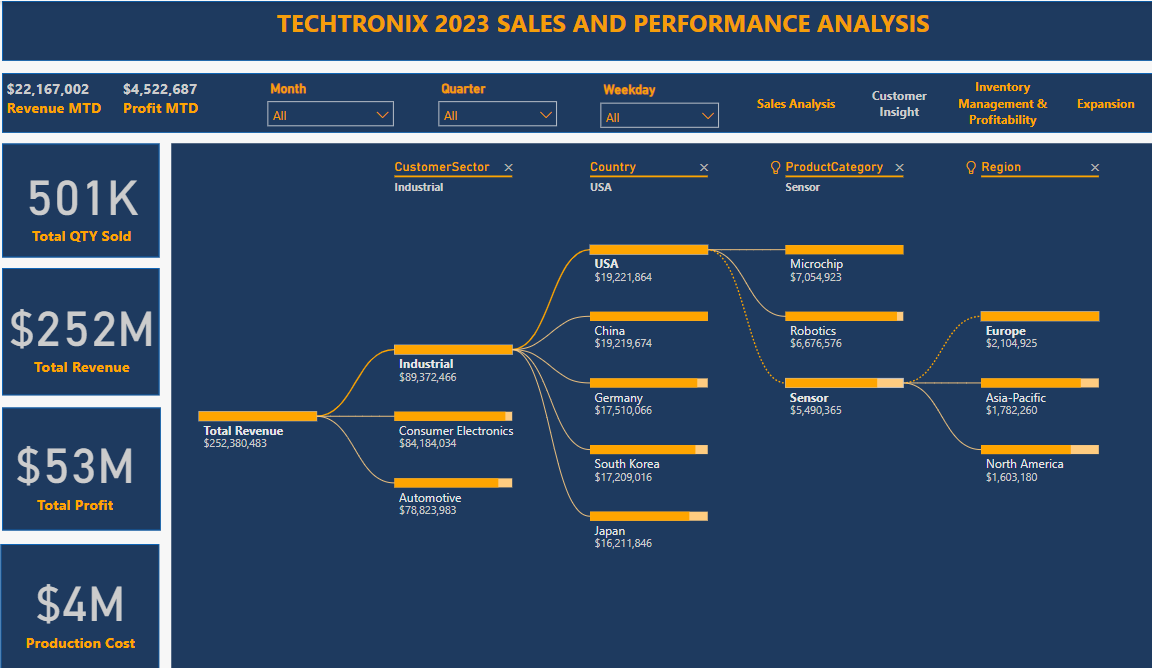

The dashboard page shown, as its layout file describes it:
{"tool":"powerbi","page":{"name":"Customer Insight","canvas":[1302,750],"ordinal":1},"visuals":[{"type":"shape","box":[13.3,157.4,174,125.9],"z":0},{"type":"shape","box":[13.3,294.9,174,140.8],"z":1000},{"type":"shape","box":[13.3,449,175.6,135.9],"z":2000},{"type":"shape","box":[11.6,599.8,175.6,139.2],"z":3000},{"type":"shape","box":[13.3,79.5,1275.8,66.3],"z":4000},{"type":"shape","box":[200.5,157.4,1088.6,581.6],"z":5000},{"type":"shape","box":[13.3,0,1275.8,66.3],"z":6000},{"type":"textbox","box":[200.5,0,961,66.3],"z":7000},{"type":"multiRowCard","fields":{"Values":["Measures (2).Revenue MTD","Measures (2).Profit MTD"]},"box":[13.3,79.5,266.8,66.3],"z":8000},{"type":"slicer","fields":{"Values":["Calender_Dim.Quarter"]},"box":[485.5,82.8,150.8,59.6],"z":9000},{"type":"pageNavigator","box":[838.4,81.2,447.4,63],"z":10000},{"type":"card","fields":{"Values":["Measures (2).Total QTY Sold"]},"box":[13.3,157.4,175.6,125.9],"z":11000},{"type":"card","fields":{"Values":["Measures (2).Total Revenue"]},"box":[13.3,294.9,175.6,140.8],"z":12000},{"type":"card","fields":{"Values":["Measures (2).Total Profit"]},"box":[13.3,449,160.7,135.9],"z":13000},{"type":"card","fields":{"Values":["Measures (2).Production Cost"]},"box":[9.9,599.8,178.9,139.2],"z":14000},{"type":"decompositionTreeVisual","fields":{"Analyze":["Measures (2).Total Revenue"],"ExplainBy":["Customer_Dim.CustomerSector","Location_Dim.Country","Location_Dim.Region","Product_Dim.ProductCategory"]},"box":[200.5,157.4,1088.6,581.6],"z":15000},{"type":"slicer","fields":{"Values":["Calender_Dim.Month Name"]},"box":[296.6,82.8,159.1,59.6],"z":16000},{"type":"slicer","fields":{"Values":["Calender_Dim.Day of the Week"]},"box":[664.4,84.5,150.8,61.3],"z":17000}]}

Visuals, with their boxes in screenshot pixels (x1, y1, x2, y2), scaled from the page's 1302x750 canvas onto the 1152x668 screenshot:
shape: [12,140,166,252]
shape: [12,263,166,388]
shape: [12,400,167,521]
shape: [10,534,166,658]
shape: [12,71,1141,130]
shape: [177,140,1141,658]
shape: [12,0,1141,59]
textbox: [177,0,1028,59]
multiRowCard - Measures (2).Revenue MTD x Measures (2).Profit MTD: [12,71,248,130]
slicer - Calender_Dim.Quarter: [430,74,563,127]
pageNavigator: [742,72,1138,128]
card - Measures (2).Total QTY Sold: [12,140,167,252]
card - Measures (2).Total Revenue: [12,263,167,388]
card - Measures (2).Total Profit: [12,400,154,521]
card - Measures (2).Production Cost: [9,534,167,658]
decompositionTreeVisual - Measures (2).Total Revenue x Customer_Dim.CustomerSector: [177,140,1141,658]
slicer - Calender_Dim.Month Name: [262,74,403,127]
slicer - Calender_Dim.Day of the Week: [588,75,721,130]
